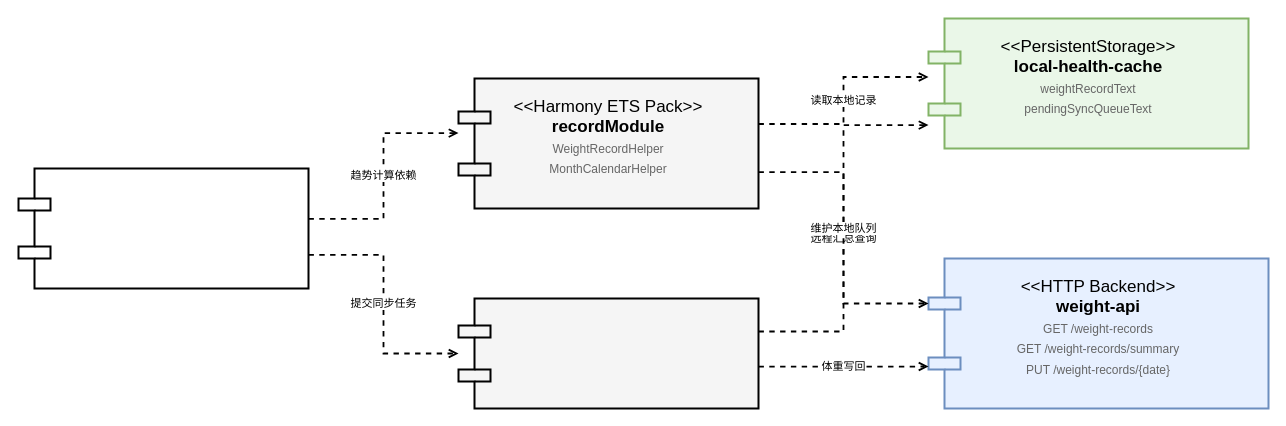
Some shapes in this 1286 by 426 pixel diagram are drawn without their labels. Here are the shapes that lost their labels. From the top down, the centre of each, then its label:
At (x=163, y=228): "<<Harmony ETS Page>> RecordTabPage.ets 体重录入 / 月历 / 趋势图".
At (x=608, y=353): "<<Harmony ETS Pack>> syncCore SyncService / SyncQueueHelper".
